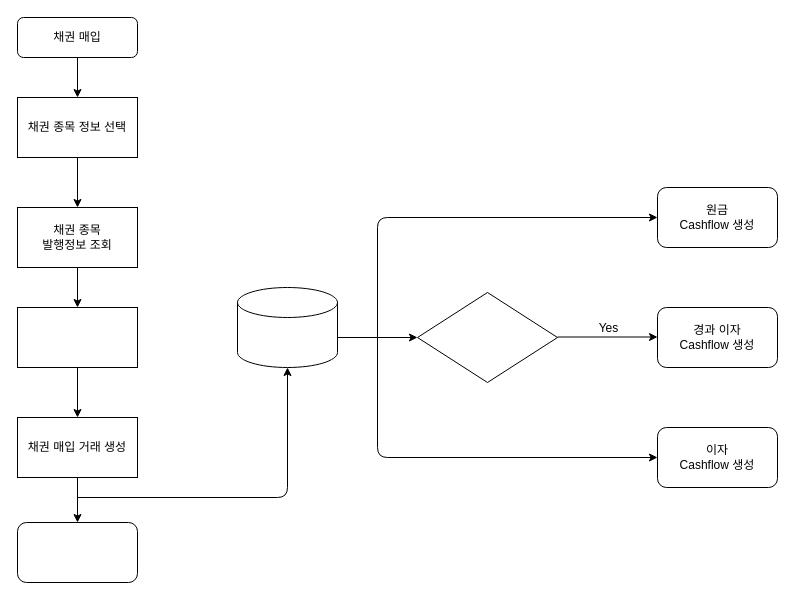
The diagram is 795 pixels wide and 600 high, and some of its shapes have lost their labels. Each missing label, with the centre of its shape:
"거래일자 != 이자지급일자" goes at (487,337).
"채권 매입 Cashflow 생성" goes at (287,327).
"채권 매입 거래 정보 입력" goes at (77,337).
"채권 매입 잔고 생성" goes at (77,552).
